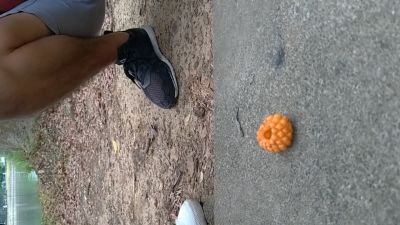eggs: (255, 113, 296, 155)
